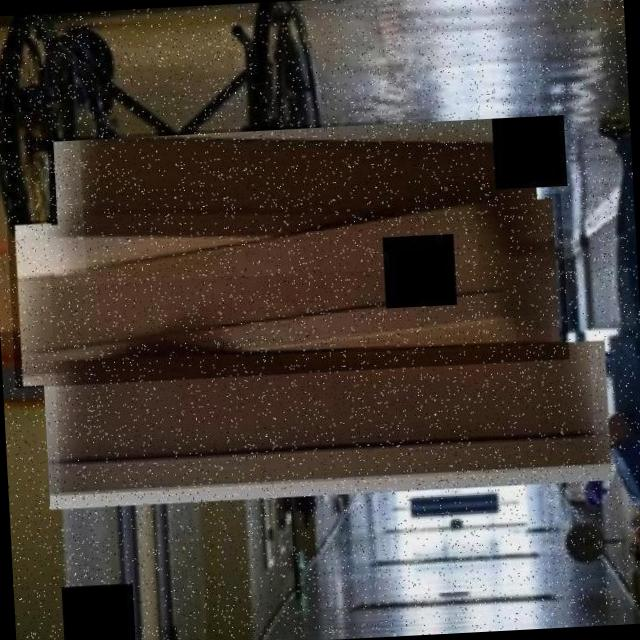box: (7, 194, 570, 388), (34, 336, 622, 513), (47, 111, 548, 287)
